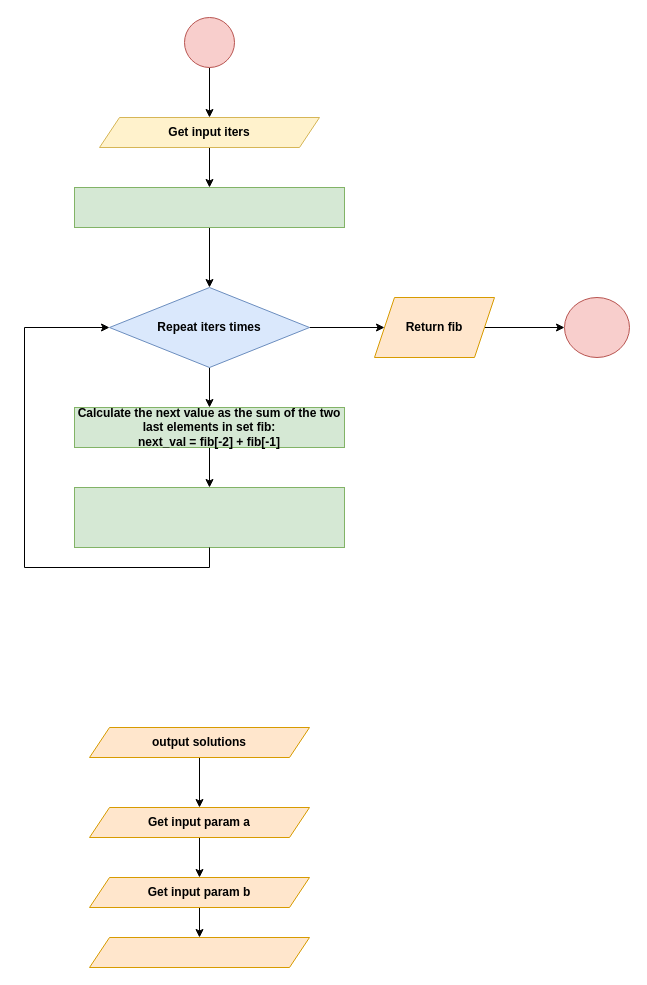
Some shapes in this 647 by 985 pixel diagram are drawn without their labels. The centre of each missing label's shape, as x and y in pixels:
"append the next value to the set: fib.append(next_val)" goes at (209,517).
"Get input param c" goes at (199,952).
"initialise fib as the set [0, 1]" goes at (209,207).
